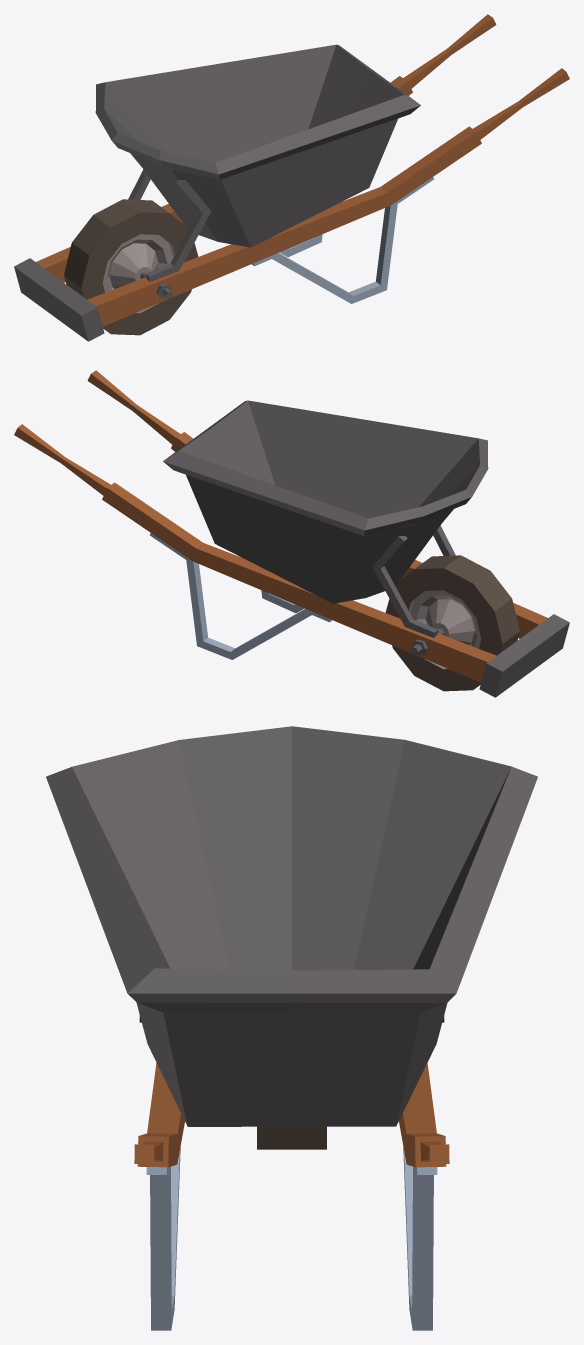
Rendered from SimpleCart.fbx.
The picture shows the model from 3 angles, top to bottom: view 1: azimuth 30°, elevation 25°; view 2: azimuth 150°, elevation 25°; view 3: azimuth 270°, elevation 25°; orthographic projection. The views are drawn at different scales.
Parts seen in each view (by area): view 1: Simplecart; view 2: Simplecart; view 3: Simplecart.
Boxes of the visible parts, bbox=[...] form: Simplecart: bbox=[14, 14, 569, 341]; Simplecart: bbox=[14, 370, 569, 697]; Simplecart: bbox=[46, 726, 537, 1330].
Bounding box in the file's own units: 229 × 101 × 90.94.
